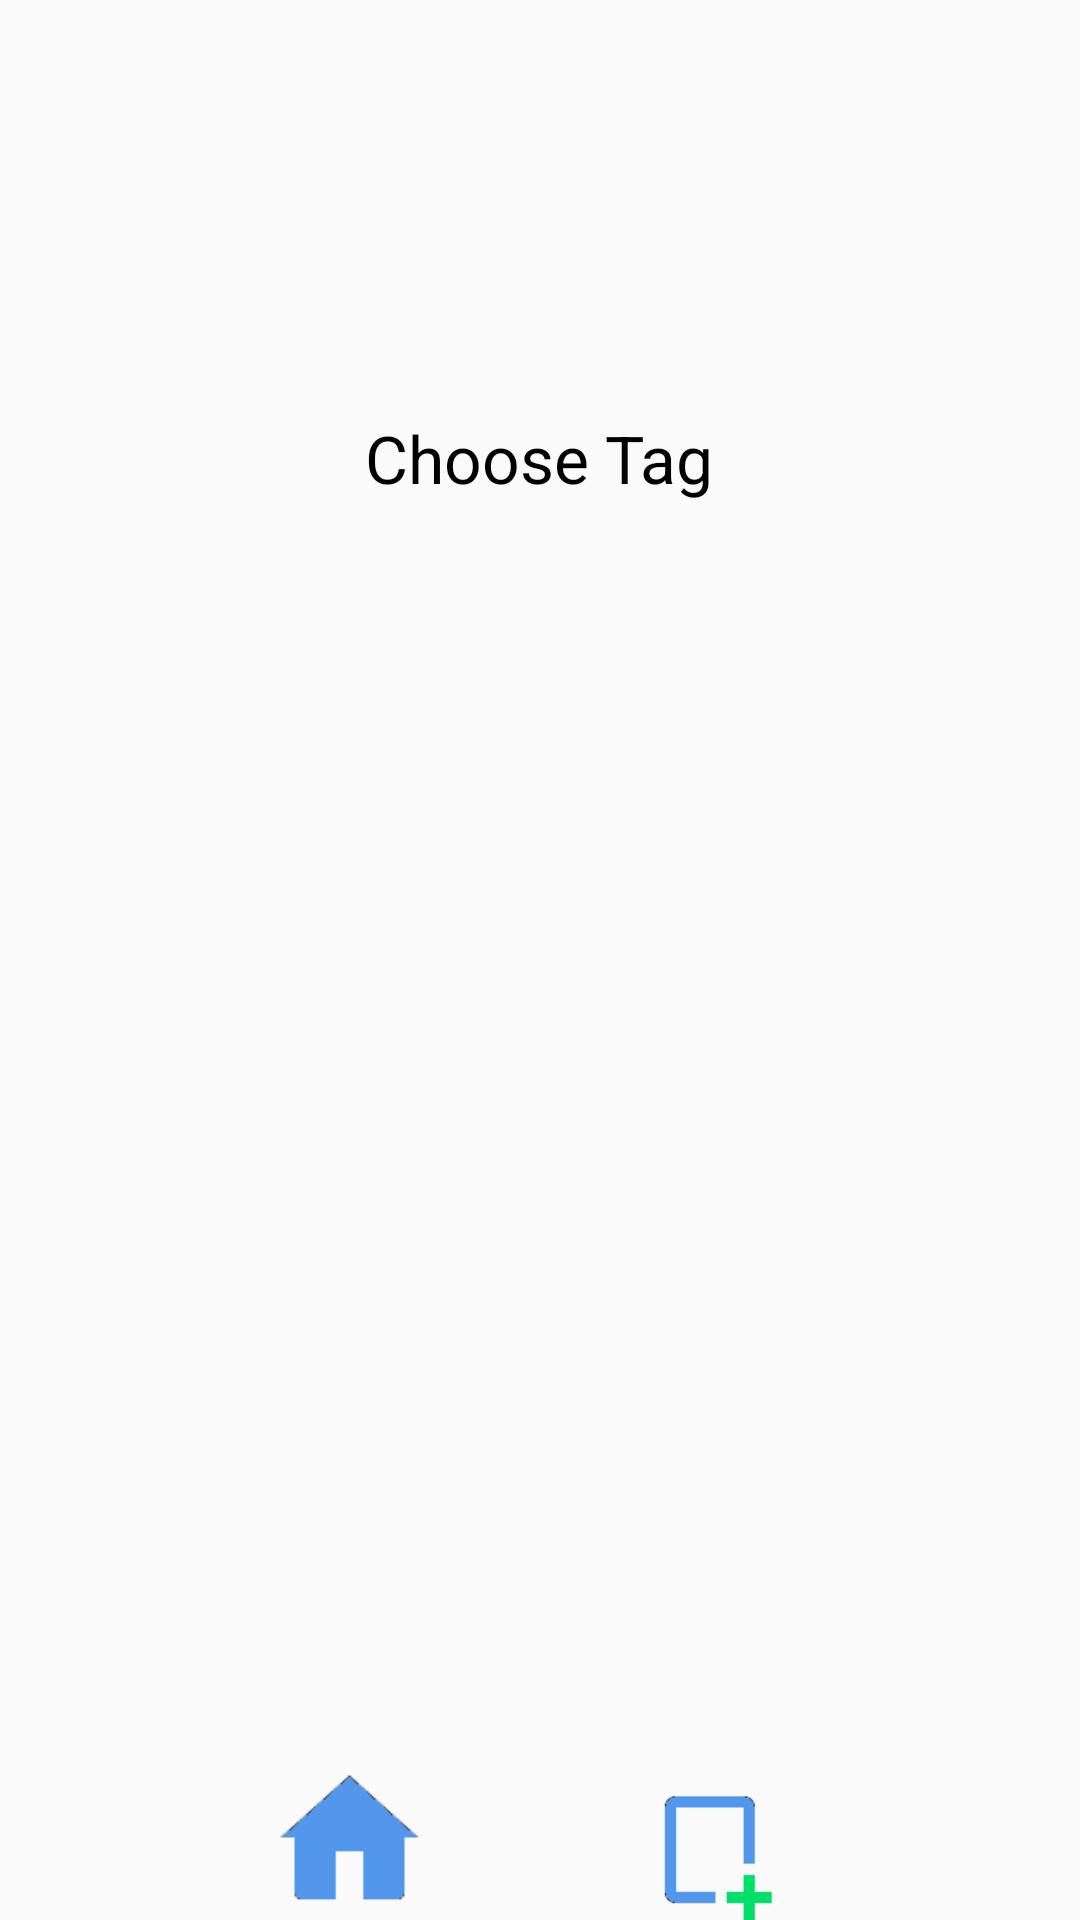

Where icons sit on this 1080w x 1920h app screen, as rect(x1, y1, x2, y2):
add: rect(664, 1796, 772, 1920)
home: rect(280, 1775, 419, 1900)
